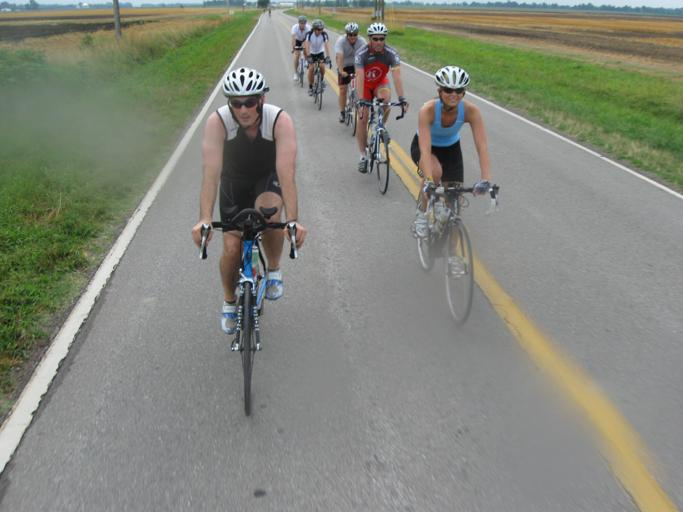non-vehicle: (196, 205, 299, 418), (409, 181, 500, 325), (352, 96, 407, 193), (307, 57, 331, 110), (342, 71, 357, 136), (292, 45, 306, 87)
